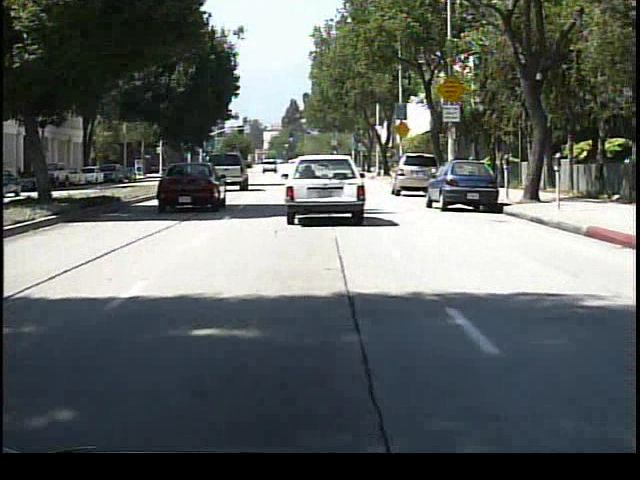car: (277, 160, 388, 223), (434, 158, 502, 220), (150, 162, 224, 213), (391, 150, 434, 192)
